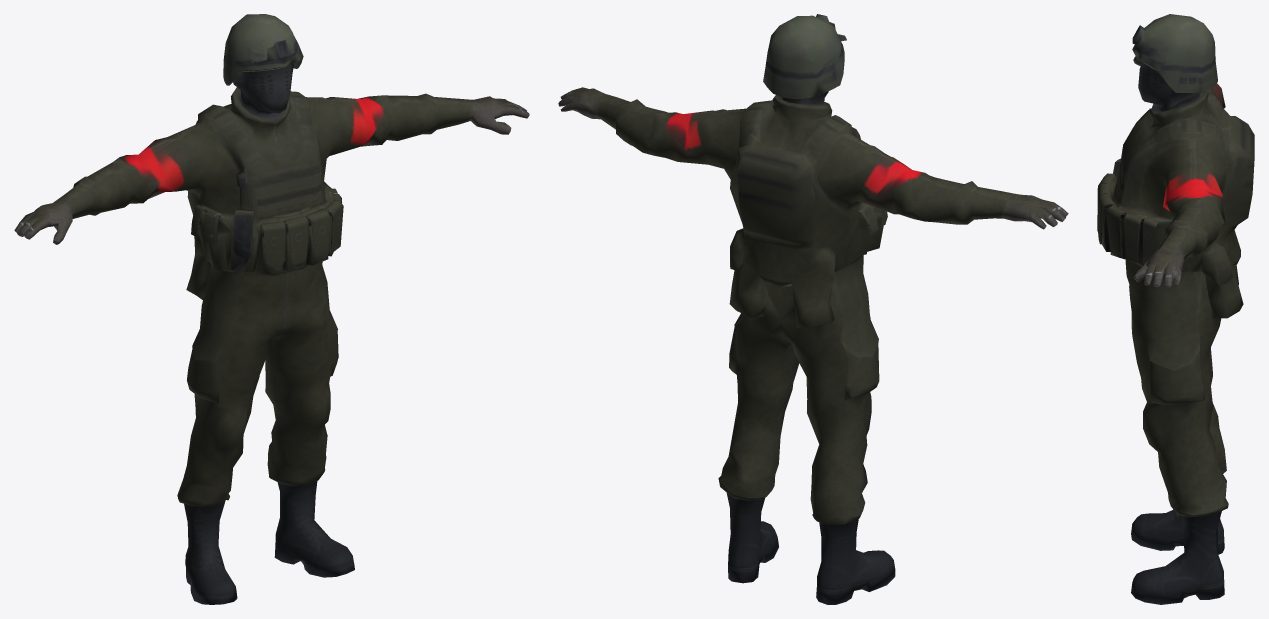
File: ru-rifleman.glb
The picture shows the model from 3 angles, left to right: view 1: azimuth 30°, elevation 25°; view 2: azimuth 150°, elevation 25°; view 3: azimuth 270°, elevation 25°; orthographic projection.
Parts seen in each view (by area): view 1: Mesh_0; view 2: Mesh_0; view 3: Mesh_0.
Boxes of the visible parts, x1,y1,x2,y2 form: Mesh_0: [14, 14, 529, 604]; Mesh_0: [558, 14, 1068, 604]; Mesh_0: [1097, 14, 1254, 604].
Size of the model in its own units: 0.9009 by 0.9517 by 0.2446.
1 material, 1 textured.
